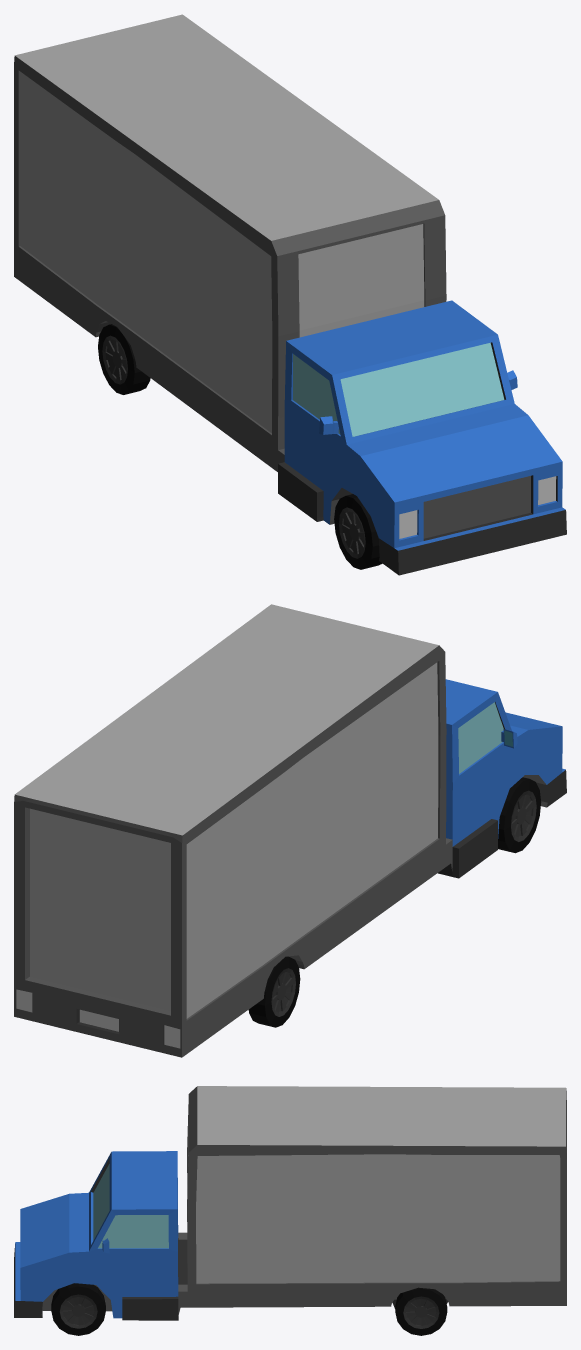
The model's file is truck.obj.
The picture shows the model from 3 angles, top to bottom: view 1: azimuth 30°, elevation 25°; view 2: azimuth 150°, elevation 25°; view 3: azimuth 270°, elevation 25°; orthographic projection. The views are drawn at different scales.
Visible parts, largest first — view 1: Cube.012, Cube.010, Cube.011, Cube.014, Cube.008, Wheel.001, Wheel.004, Cube.009; view 2: Cube.012, Cube.004, Cube.011, Cube.003, Cube.010, Wheel.001, Wheel.004, Cube.008, Cube.014, Cube.002, Cube, Cube.001; view 3: Cube.012, Cube.010, Cube.011, Cube.014, Wheel.003, Wheel.002, Cube.008, Cube.001.
Boxes of the visible parts, box(x1,y1,x2,y2) form: Cube.012: box(15, 14, 438, 432); Cube.010: box(284, 300, 565, 550); Cube.011: box(14, 56, 530, 538); Cube.014: box(293, 342, 504, 436); Cube.008: box(278, 462, 566, 575); Wheel.001: box(334, 494, 382, 569); Wheel.004: box(98, 324, 150, 394); Cube.009: box(399, 476, 556, 538); Cube.012: box(15, 604, 438, 1018); Cube.004: box(30, 808, 170, 1010); Cube.011: box(182, 645, 524, 1057); Cube.003: box(14, 775, 547, 1057); Cube.010: box(445, 679, 565, 846); Wheel.001: box(498, 777, 541, 853); Wheel.004: box(248, 956, 300, 1027); Cube.008: box(452, 770, 566, 878); Cube.014: box(458, 702, 503, 773); Cube.002: box(17, 702, 504, 1055); Cube: box(15, 989, 180, 1049); Cube.001: box(76, 873, 458, 1034); Cube.012: box(188, 1086, 565, 1283); Cube.010: box(15, 1151, 178, 1318); Cube.011: box(42, 1086, 566, 1315); Cube.014: box(93, 1164, 168, 1248); Wheel.003: box(51, 1283, 105, 1335); Wheel.002: box(395, 1287, 447, 1335); Cube.008: box(14, 1238, 178, 1320); Cube.001: box(178, 1239, 187, 1318).
Bounding box in the file's own units: 1.31 × 1.71 × 4.48.
